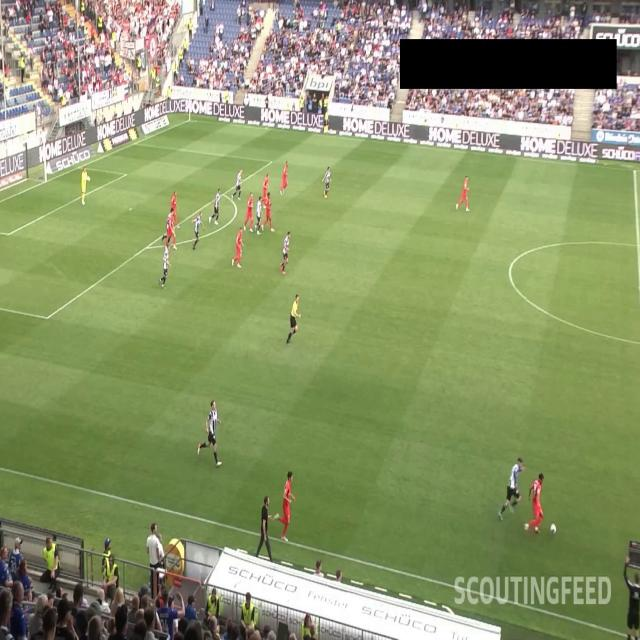Ball: (550, 522, 556, 534)
GoalKeeper: (81, 166, 91, 205)
Referee: (286, 294, 301, 344), (322, 108, 330, 136)
TEAM 1: (271, 471, 295, 542), (525, 472, 544, 534), (262, 193, 276, 233), (456, 175, 470, 212), (166, 209, 178, 252), (242, 191, 254, 234), (232, 226, 244, 268), (170, 191, 181, 232), (280, 160, 289, 196), (261, 172, 270, 208)
TEAM 2: (498, 458, 526, 522), (196, 400, 222, 468), (278, 231, 291, 275), (192, 212, 206, 252), (159, 244, 171, 288), (209, 188, 221, 225), (231, 166, 243, 202), (162, 208, 174, 244), (254, 196, 263, 235), (322, 165, 332, 198)
